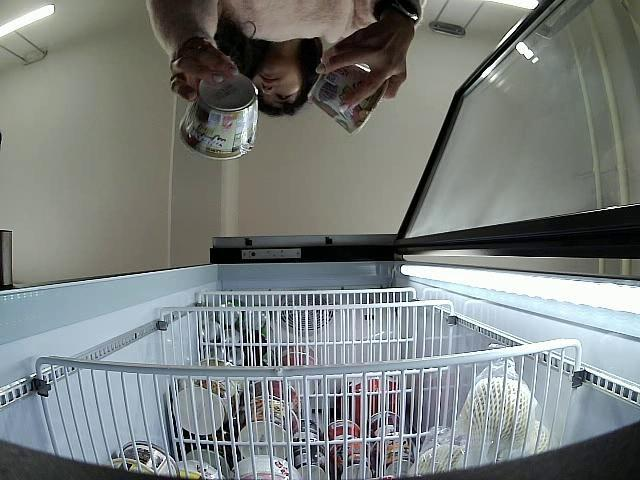04_chapagetti_S: (178, 73, 260, 160), (308, 65, 384, 136)
